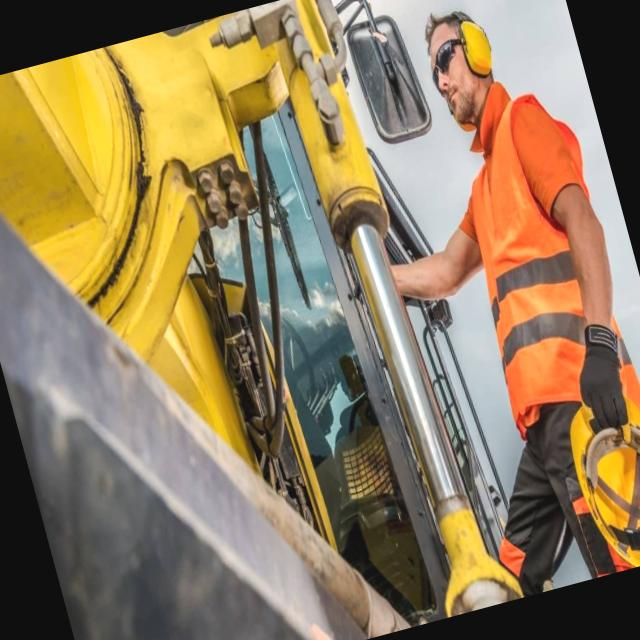goggles: (417, 27, 482, 94)
no-helmet: (402, 0, 476, 42)
vest: (433, 74, 640, 451)
